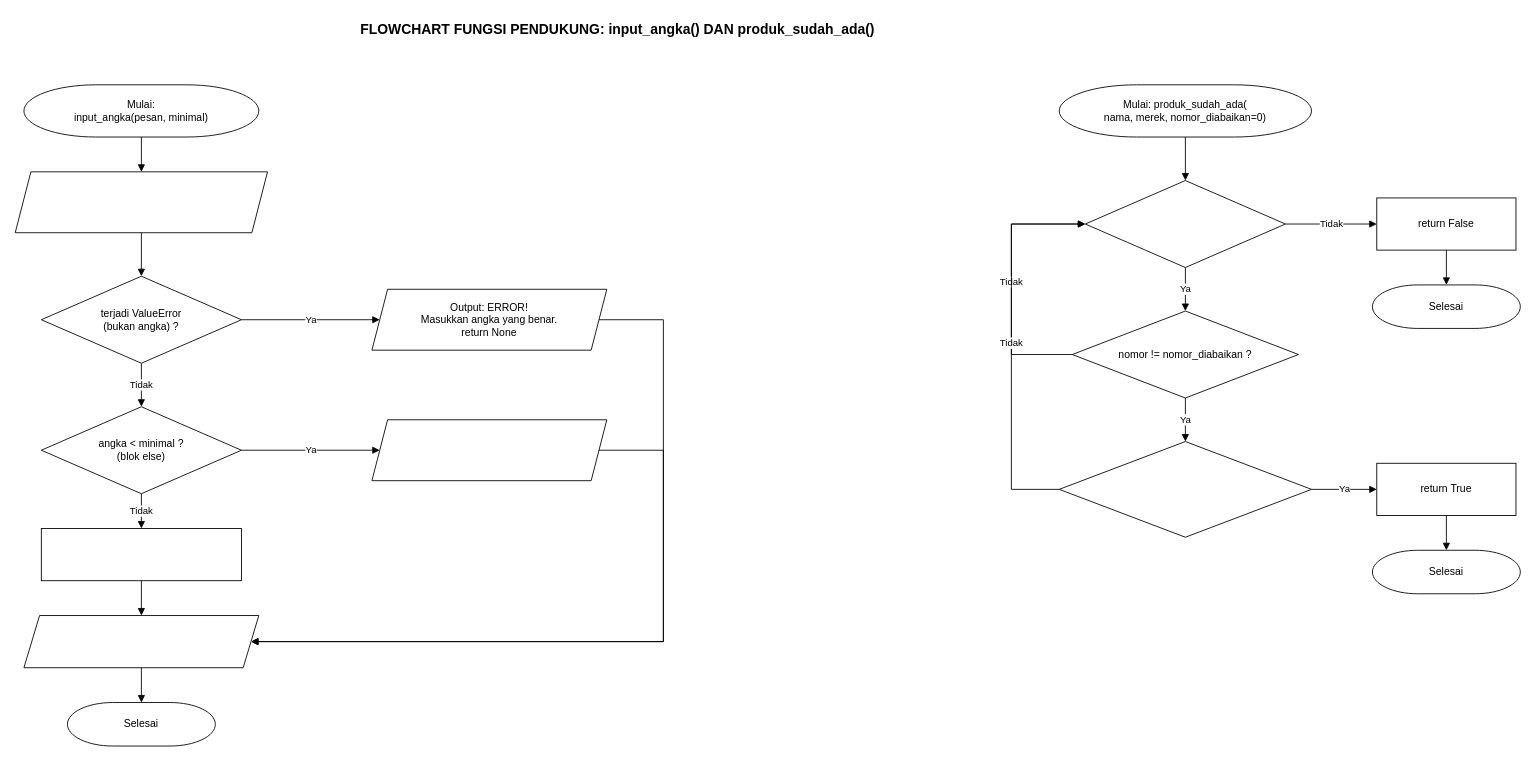
The diagram is 1536 pixels wide and 761 high, and some of its shapes have lost their labels. Each missing label, with the centre of its shape:
"Input: angka = int(input(pesan)) (blok try)" goes at [141,202].
"masih ada produk di produk_kosmetik ?" goes at [1184,224].
"nama sama DAN merek sama (huruf besar/kecil diabaikan) ?" goes at [1185,489].
"Output (blok finally): Pemeriksaan input selesai." goes at [141,641].
"Output: ERROR! Angka minimal adalah (minimal) return None" goes at [489,450].
"return angka" goes at [140,554].
